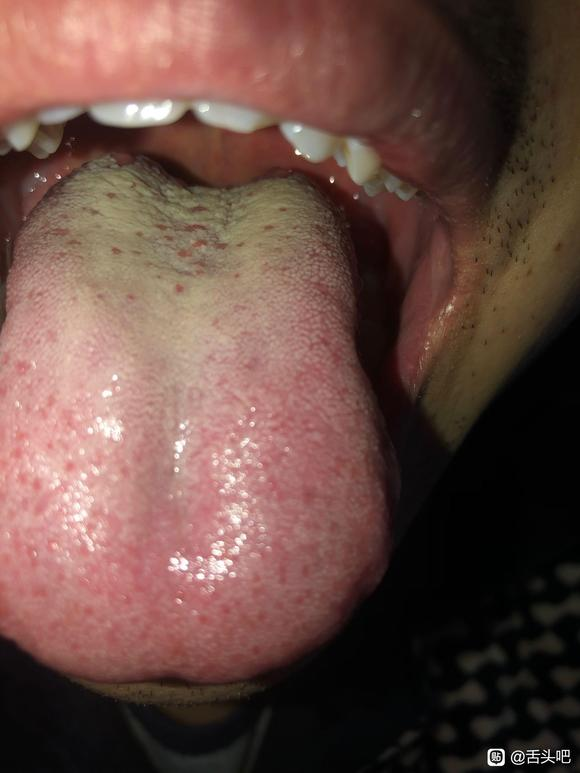hongdianshe: (184, 202, 208, 217), (61, 456, 78, 475), (106, 243, 124, 260), (170, 277, 184, 297)
hongshe: (1, 153, 395, 681)
huangtaishe: (1, 153, 395, 681)
